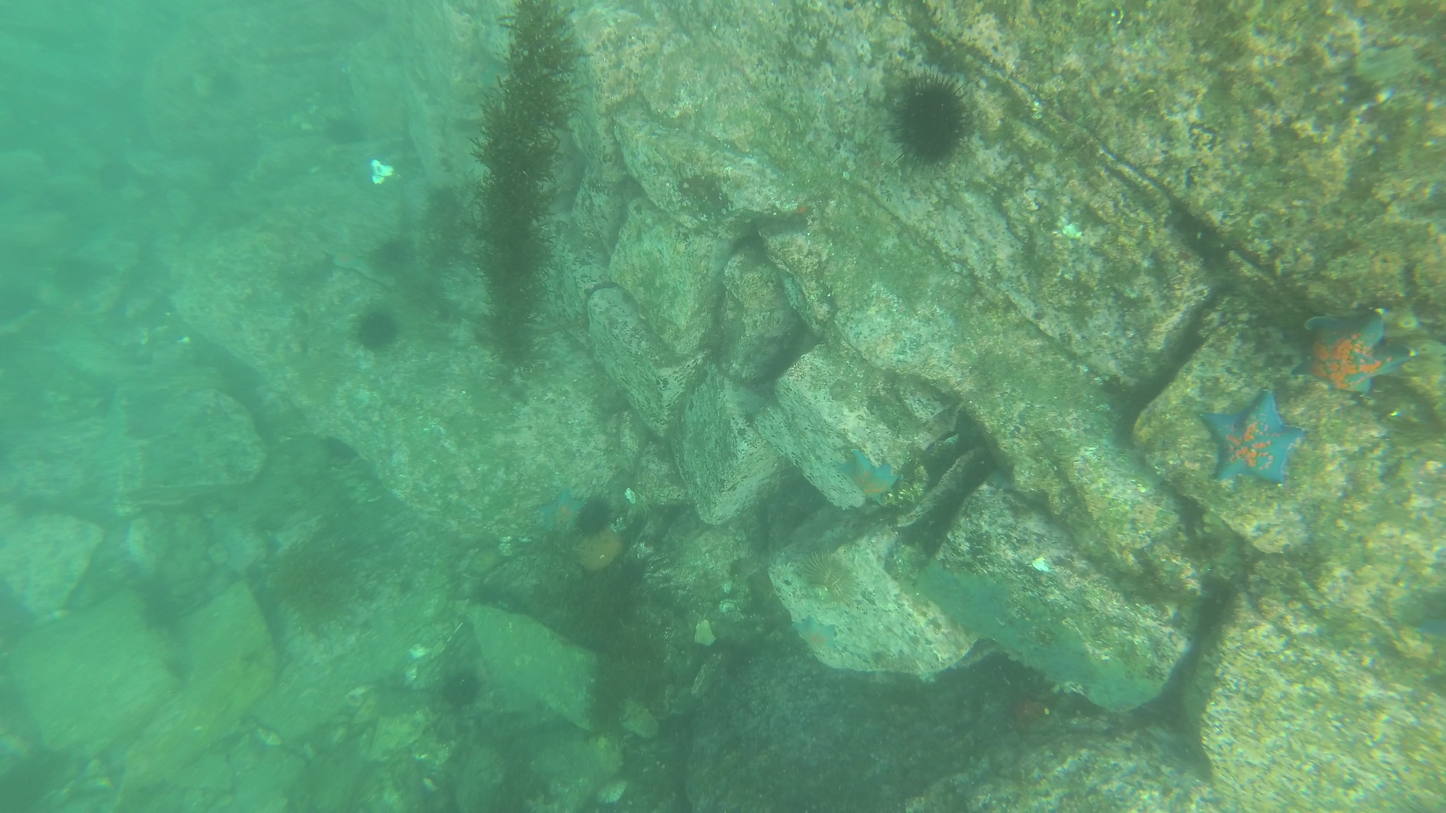holothurian: (1293, 302, 1411, 406), (1196, 390, 1311, 496), (833, 448, 898, 504), (535, 489, 587, 536)
starfish: (883, 73, 973, 172), (798, 548, 859, 608), (350, 309, 400, 353), (437, 670, 480, 708), (578, 492, 612, 536)
